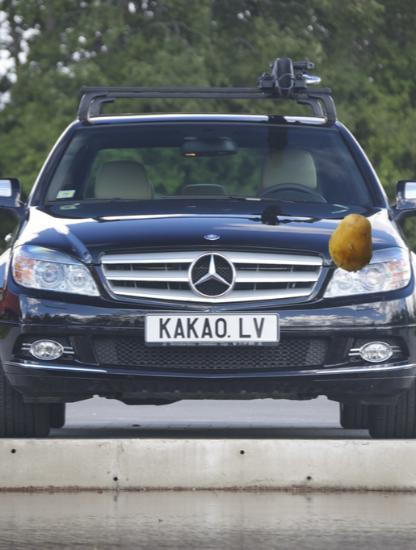Potato: (321, 213, 384, 276)
